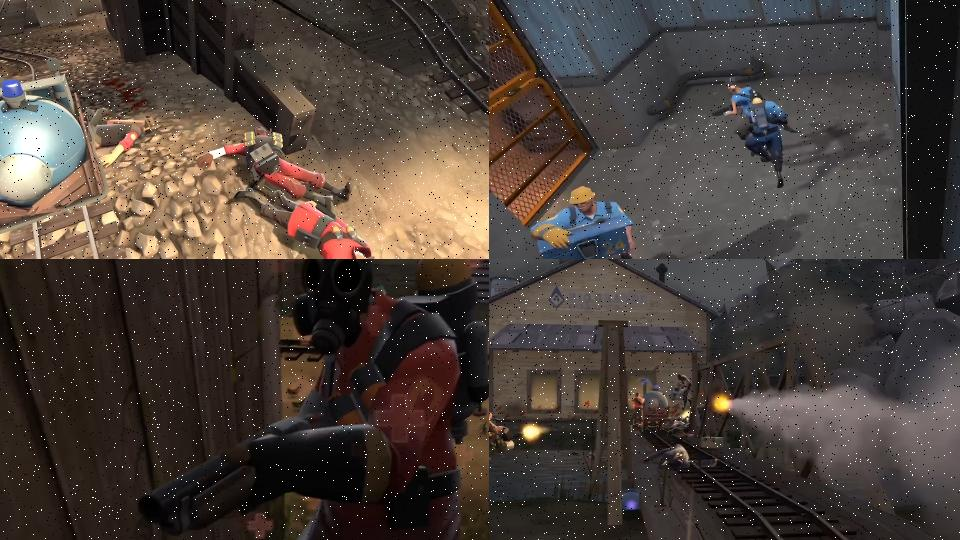Enemy: (134, 259, 489, 540), (194, 123, 363, 221), (224, 175, 390, 259), (526, 181, 640, 259), (731, 84, 797, 193), (82, 104, 161, 169), (711, 74, 769, 143), (639, 444, 719, 470), (489, 412, 524, 454), (630, 392, 646, 433), (677, 374, 692, 411)
